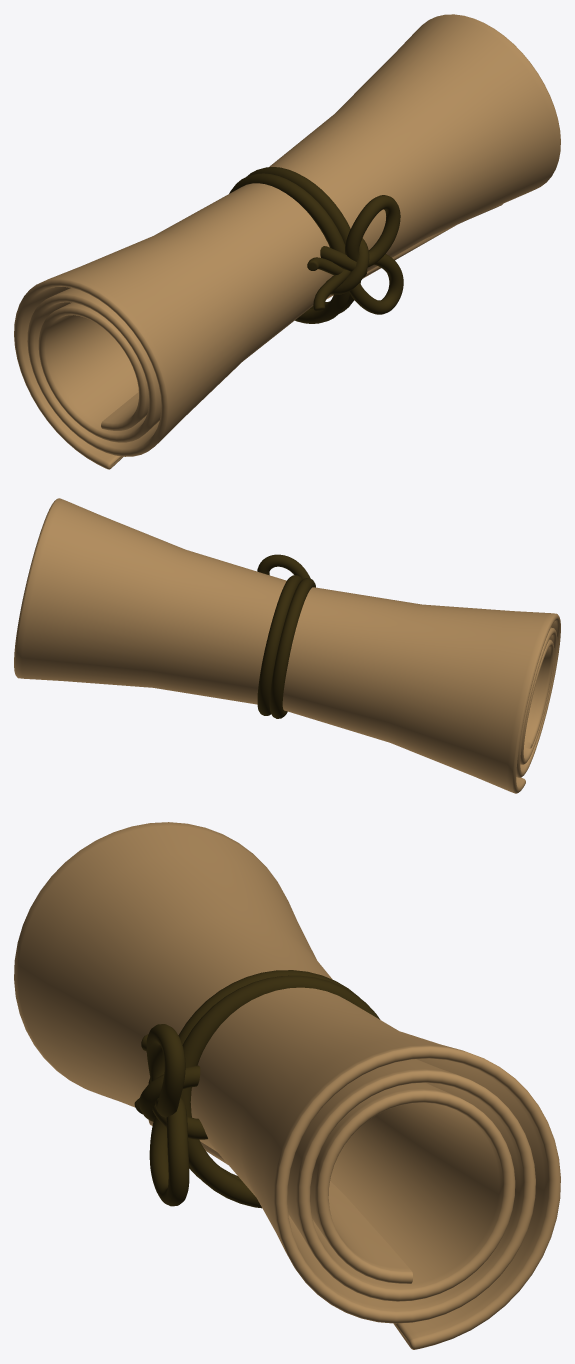
File: cgtrader_optimized_r1.fbx
3 renders of one model, top to bottom at view 1: azimuth 30°, elevation 25°; view 2: azimuth 150°, elevation 25°; view 3: azimuth 270°, elevation 25°, orthographic. The views are drawn at different scales.
Parts seen in each view (by area): view 1: Roll paper, Torus.004, BezierCircle.017, BezierCircle.016, Torus.003, BezierCurve.003, BezierCircle.014; view 2: Roll paper, Torus.004, Torus.003, BezierCircle.017; view 3: Roll paper, Torus.003, BezierCircle.016, BezierCircle.017, Torus.004, BezierCircle.014.
Part boxes in pixels (x1,y1,x2,y2): Roll paper: (14, 14, 560, 469); Torus.004: (229, 173, 349, 323); BezierCircle.017: (345, 195, 400, 267); BezierCircle.016: (349, 254, 403, 314); Torus.003: (246, 167, 360, 313); BezierCurve.003: (307, 257, 350, 311); BezierCircle.014: (326, 238, 369, 294); Roll paper: (14, 498, 560, 793); Torus.004: (269, 578, 315, 718); Torus.003: (257, 575, 302, 715); BezierCircle.017: (257, 554, 310, 579); Roll paper: (14, 822, 560, 1349); Torus.003: (180, 975, 380, 1208); BezierCircle.016: (149, 1098, 189, 1206); BezierCircle.017: (146, 1024, 185, 1117); Torus.004: (178, 970, 359, 1179); BezierCircle.014: (139, 1065, 200, 1121).
Bounding box in the file's own units: 1.72 × 0.8314 × 1.03.
